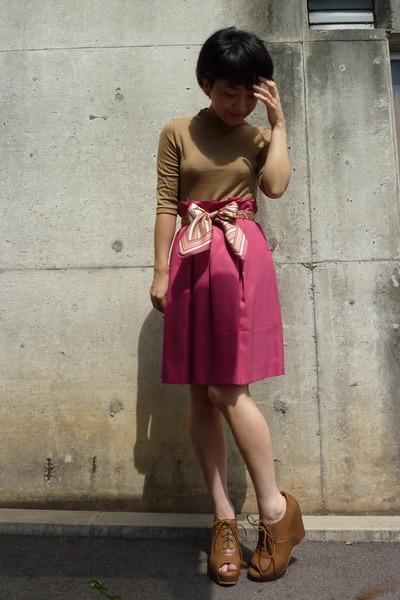shirt: (156, 106, 275, 203)
shoe: (200, 492, 311, 587)
skirt: (157, 191, 286, 389)
